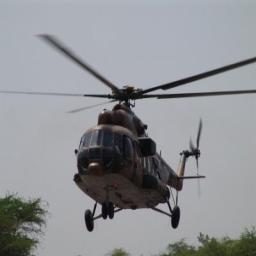helicopter: (28, 35, 255, 229)
